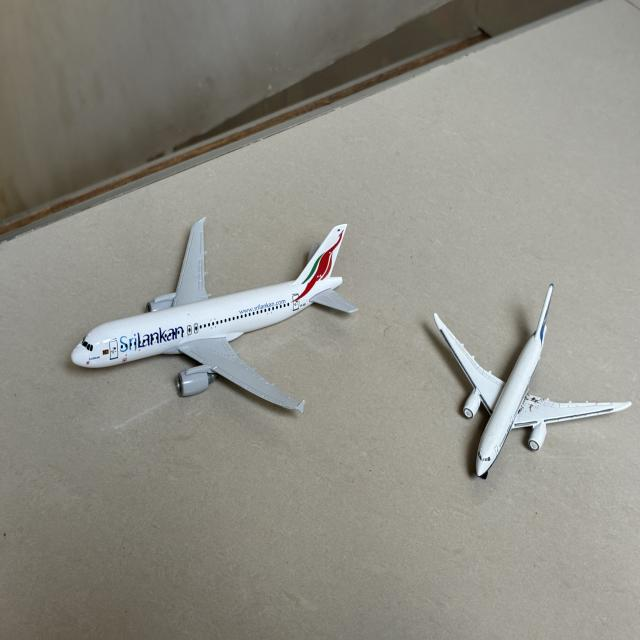air-plane: (71, 218, 357, 413), (434, 284, 631, 478)
